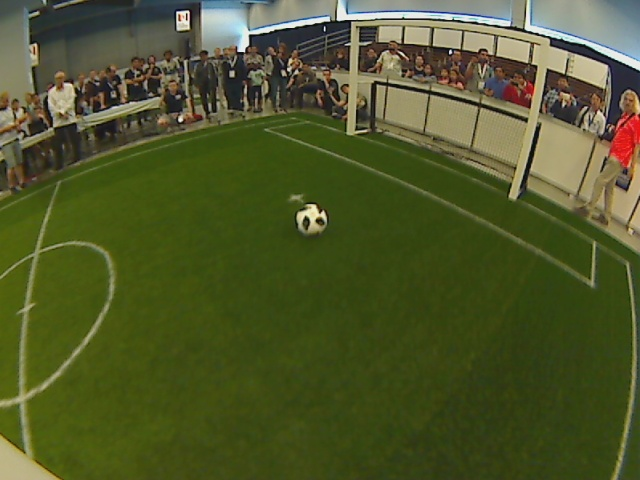ball: (293, 202, 328, 236)
